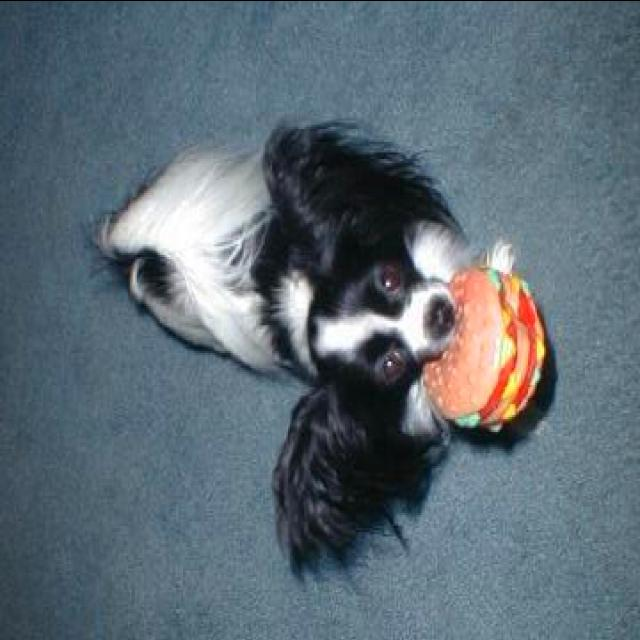papillon: (81, 121, 522, 594)
